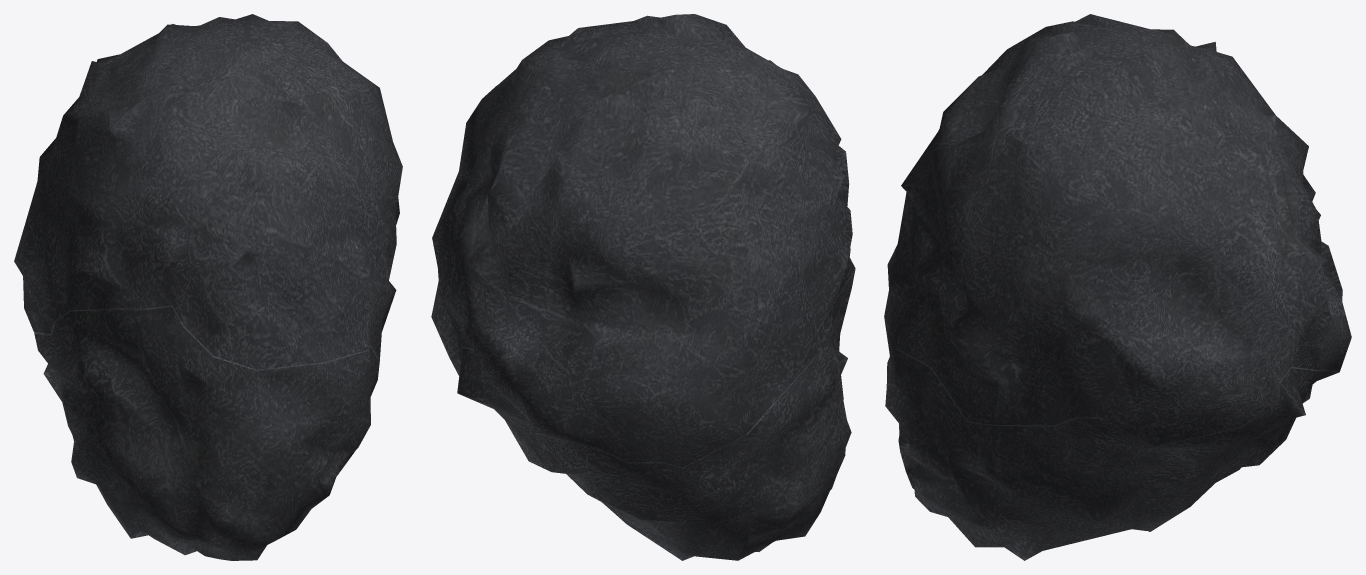
The model's file is asteroid_hd2.glb.
The picture shows the model from 3 angles, left to right: view 1: azimuth 30°, elevation 25°; view 2: azimuth 150°, elevation 25°; view 3: azimuth 270°, elevation 25°; orthographic projection. The views are drawn at different scales.
Parts seen in each view (by area): view 1: Object_2; view 2: Object_2; view 3: Object_2.
Boxes of the visible parts, <box> form: Object_2: <box>14,14,402,560</box>; Object_2: <box>431,14,855,560</box>; Object_2: <box>884,14,1351,560</box>.
Bounding box in the file's own units: 2.25 × 3.14 × 2.47.
Materials: 1 (1 with a texture image).
